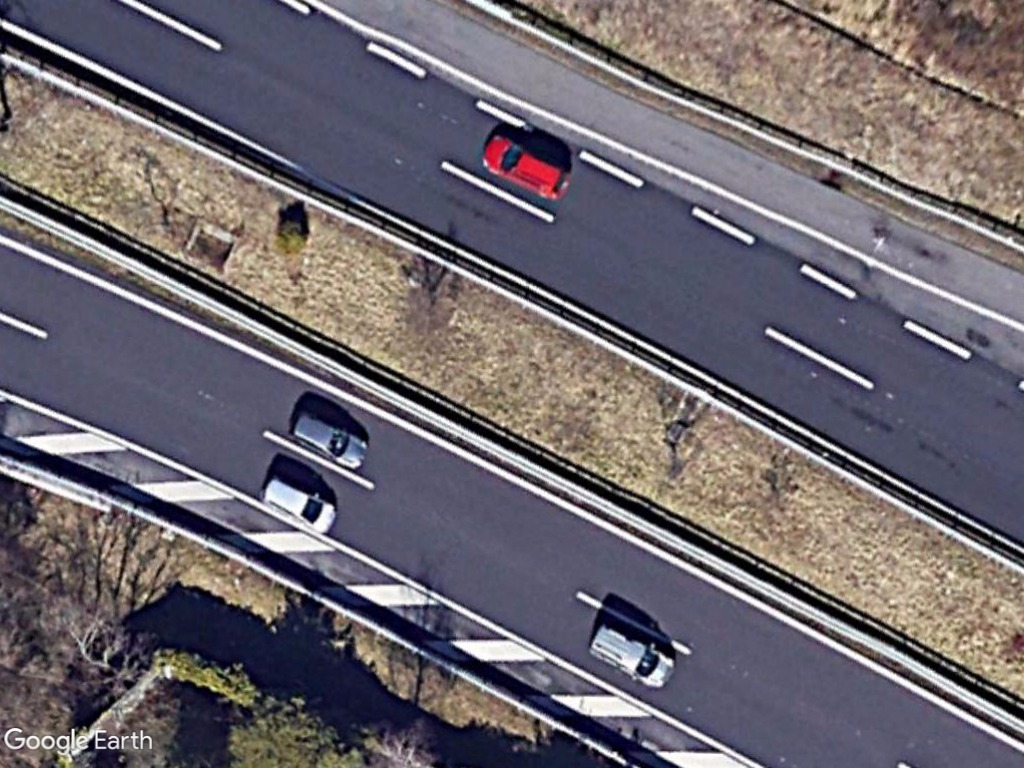car: (477, 126, 577, 204), (287, 404, 375, 475), (253, 472, 340, 537)
van: (584, 615, 683, 695)
